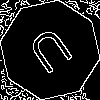U: (25, 25, 81, 84)
